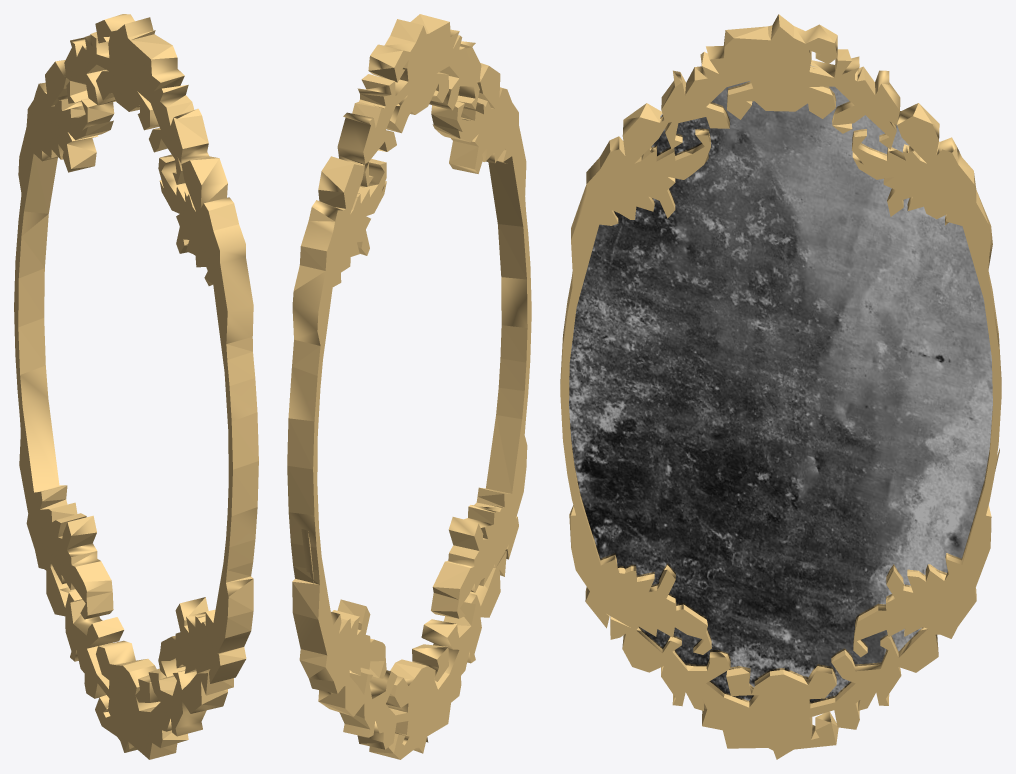
File: mirrorDirty.glb
The picture shows the model from 3 angles, left to right: view 1: azimuth 30°, elevation 25°; view 2: azimuth 150°, elevation 25°; view 3: azimuth 270°, elevation 25°; orthographic projection.
Parts seen in each view (by area): view 1: Cylinder; view 2: Cylinder; view 3: Mirror, MirrorDirty, Cylinder.
Part boxes in pixels (x1,y1,x2,y2): Cylinder: [14, 14, 258, 759]; Cylinder: [287, 14, 531, 759]; Mirror: [569, 65, 992, 700]; MirrorDirty: [569, 81, 992, 703]; Cylinder: [560, 14, 1001, 759].
Size of the model in its own units: 0.0606 by 1.63 by 0.8874.
Materials: 3 (1 with a texture image).
